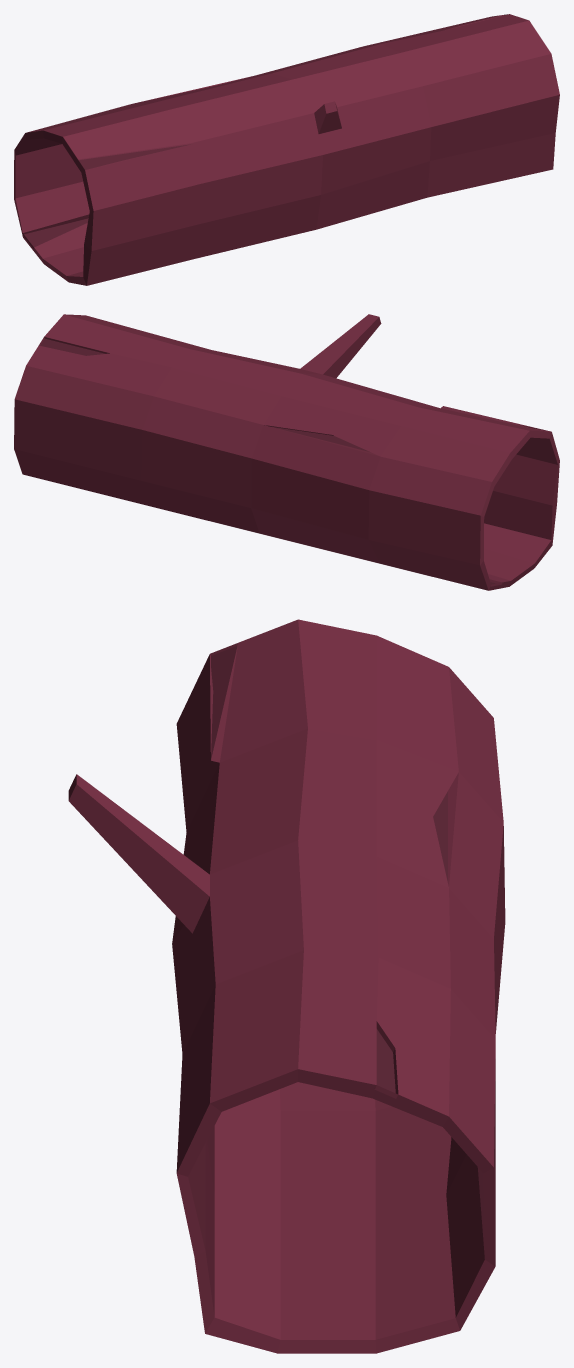
Rendered from Mo_ForestFallenTree01.fbx.
3 renders of one model, top to bottom at view 1: azimuth 30°, elevation 25°; view 2: azimuth 150°, elevation 25°; view 3: azimuth 270°, elevation 25°, orthographic. The views are drawn at different scales.
Parts seen in each view (by area): view 1: Cube; view 2: Cube; view 3: Cube.
Part boxes in pixels (x1,y1,x2,y2): Cube: (14, 14, 559, 285); Cube: (14, 314, 559, 590); Cube: (68, 619, 505, 1353).
Bounding box in the file's own units: 94.24 × 31.81 × 38.12.
